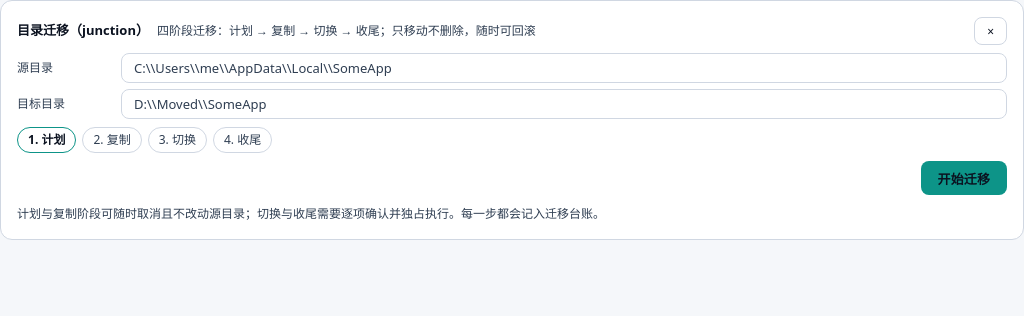
Test: marks a capped size estimate as an estimate, never a confirmed figure
Step 1. Type "C:\\src" into the field labelled "源目录" → [564, 68], box [121, 53, 1007, 83]
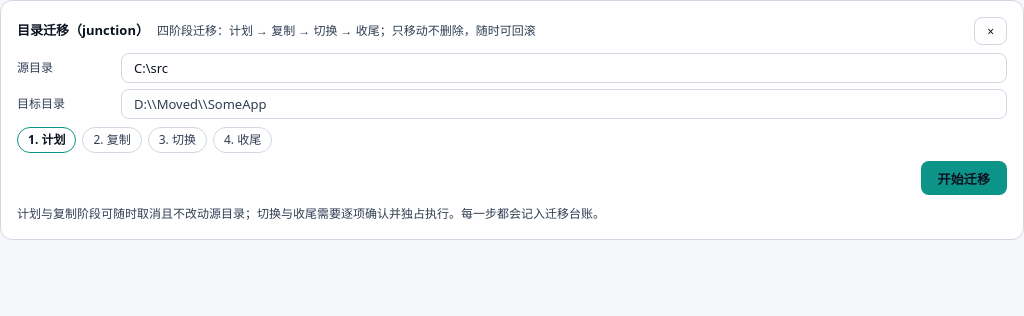
Step 2. Type "D:\\dst" into the field labelled "目标目录" → [564, 104], box [121, 89, 1007, 119]
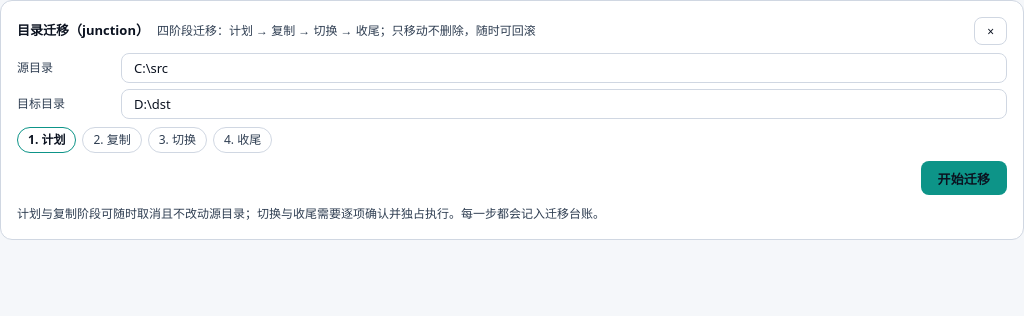
Step 3. Click the button "开始迁移" → [964, 178], box [921, 161, 1007, 195]
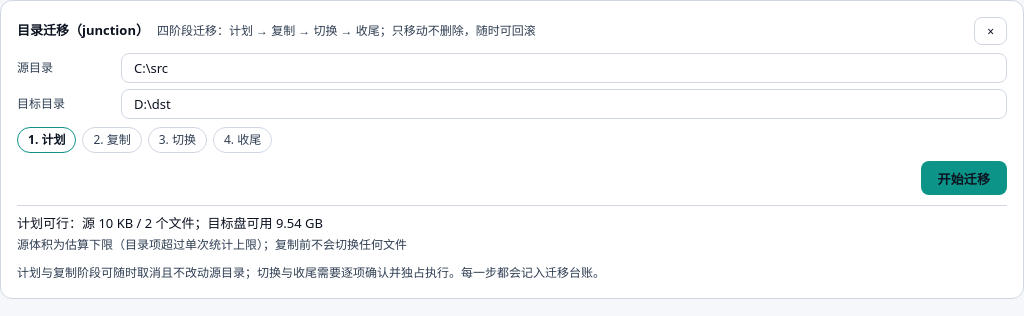
Expected: the message shows "源体积为估算下限（目录项超过单次统计上限）；复制前不会切换任何文件", [17, 236, 407, 252]
